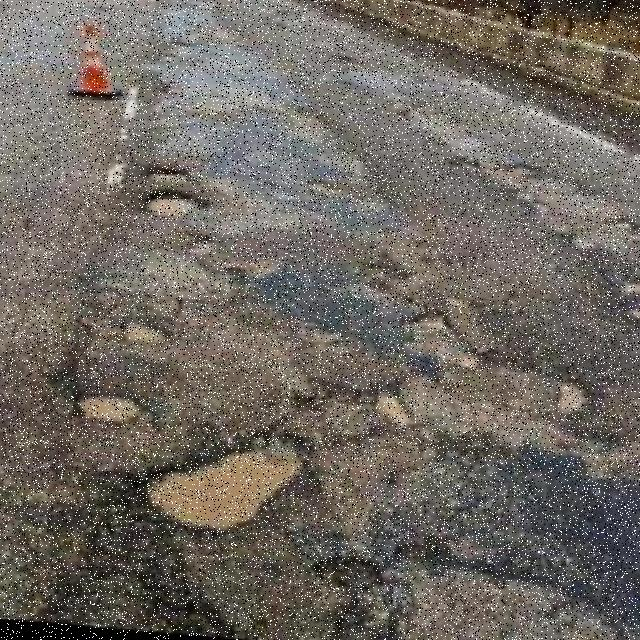pothole: (145, 449, 306, 534), (72, 393, 152, 430), (141, 194, 202, 219), (120, 316, 169, 344), (146, 167, 196, 182)
